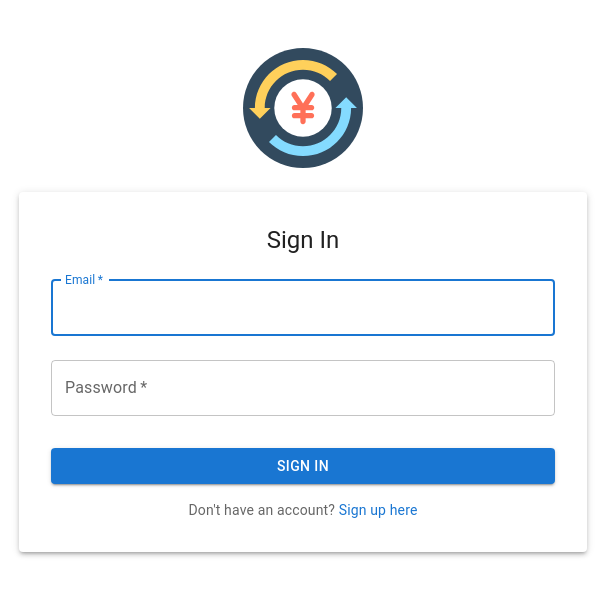
Test: LoginPage › shows error alert on failed login
This screenshot has width=607, height=606.
Expected: the password field labelled "Password *" is shown, [51,360,555,416]
Expected: the button "Sign In" is enabled, [51,448,555,484]
Type "user@example.com" into the field labelled "Email *" at (303, 308), box [51,280,555,336]
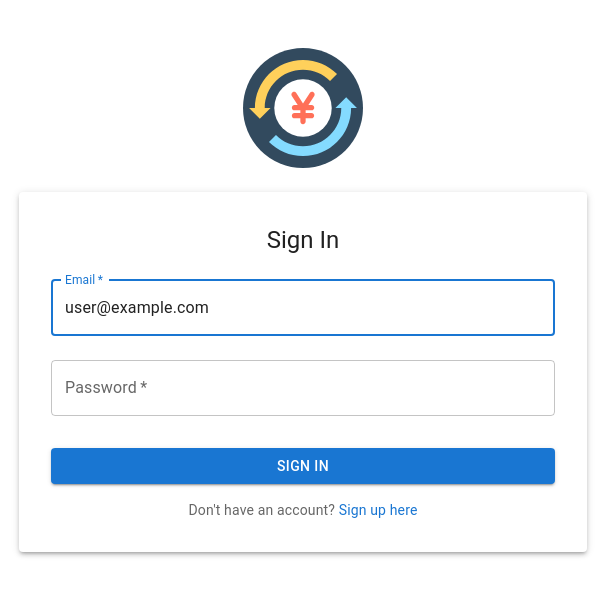
Type "wrongpassword" into the password field labelled "Password *" at (303, 388), box [51,360,555,416]
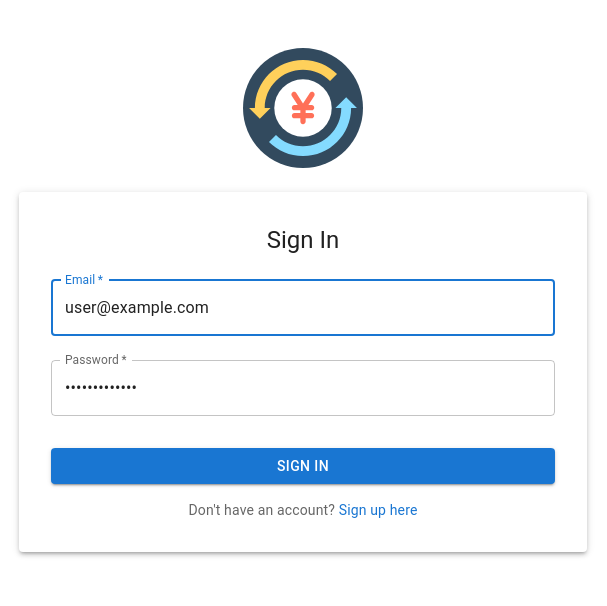
Click the button "Sign In" at (303, 466), box [51,448,555,484]
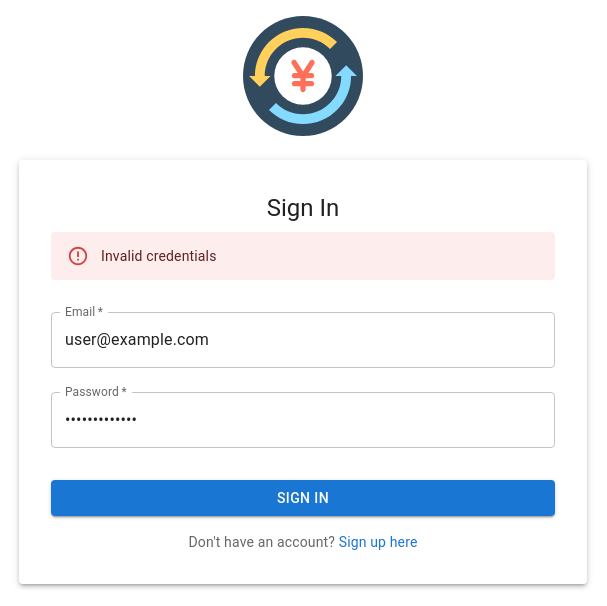
Result: the message "Invalid credentials" is shown at [51,232,555,280]
